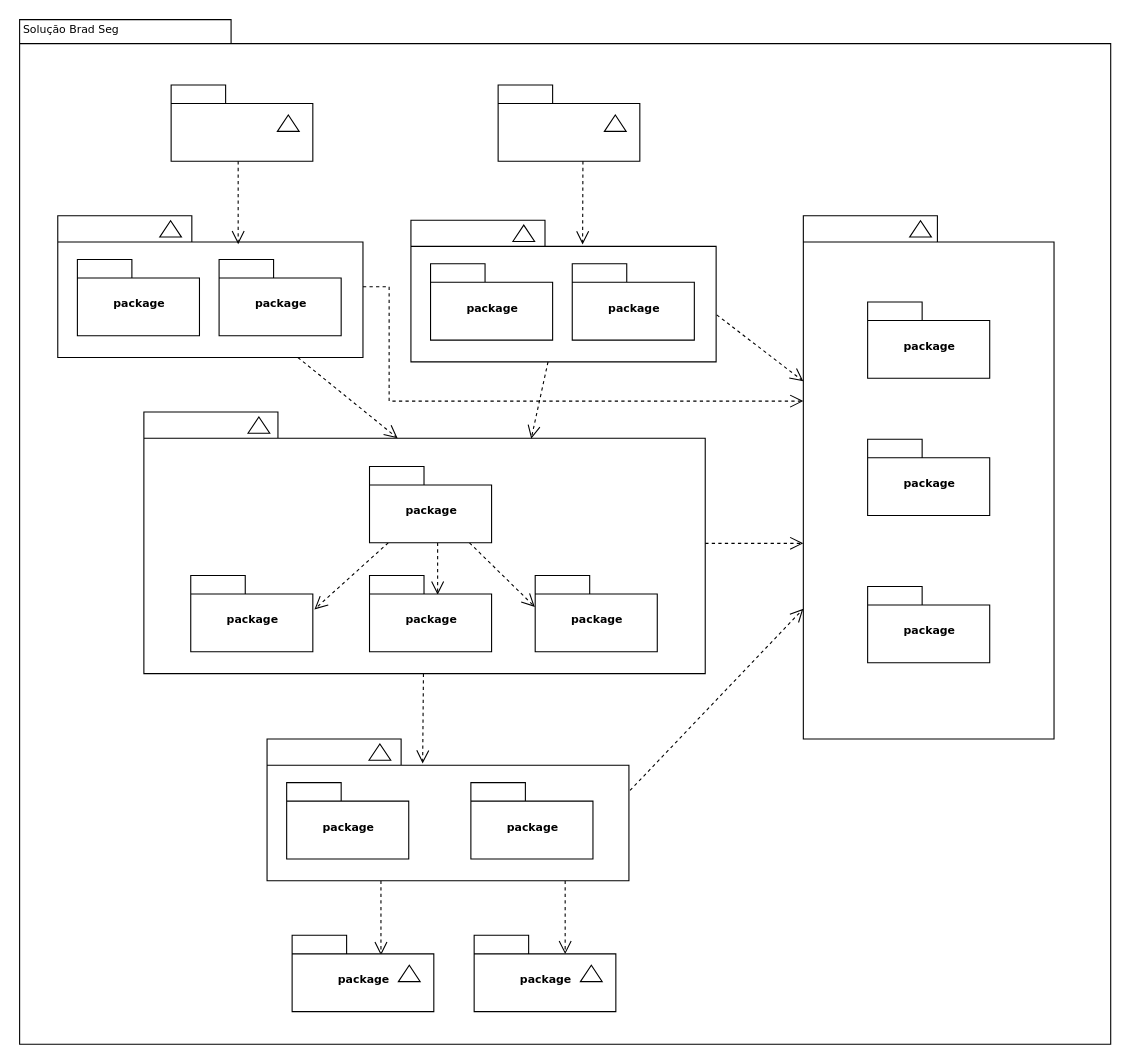
The diagram is 1129 pixels wide and 1063 high, and some of its shapes have lost their labels. Here are the shapes that lost their labels. From the top down, the box of each, then its label:
(170, 84, 313, 161): Vedol
(497, 84, 640, 161): Nasa
